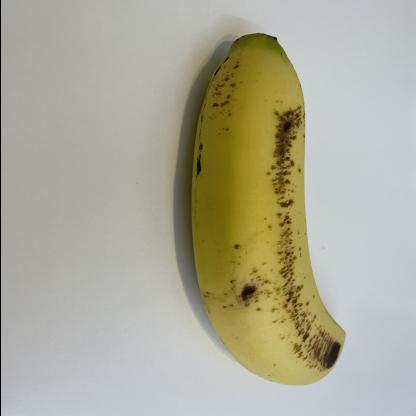banana: (188, 34, 347, 387)
